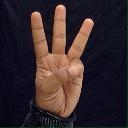hand: (30, 4, 94, 118)
